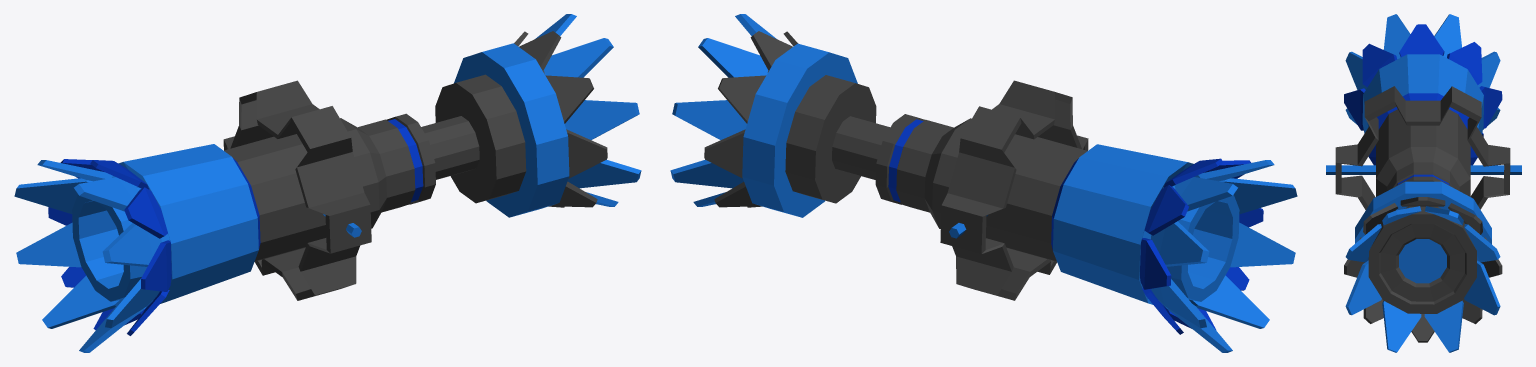
Rendered from icealtar.glb.
3 views of the same model, side by side, from view 1: azimuth 30°, elevation 25°; view 2: azimuth 150°, elevation 25°; view 3: azimuth 270°, elevation 25° (orthographic). The views are drawn at different scales.
Parts seen in each view (by area): view 1: Props_Laser; view 2: Props_Laser; view 3: Props_Laser.
Boxes of the visible parts, bbox=[...] form: Props_Laser: bbox=[14, 14, 641, 352]; Props_Laser: bbox=[670, 14, 1297, 352]; Props_Laser: bbox=[1326, 14, 1521, 352].
Size of the model in its own units: 3.84 by 1.29 by 1.46.
